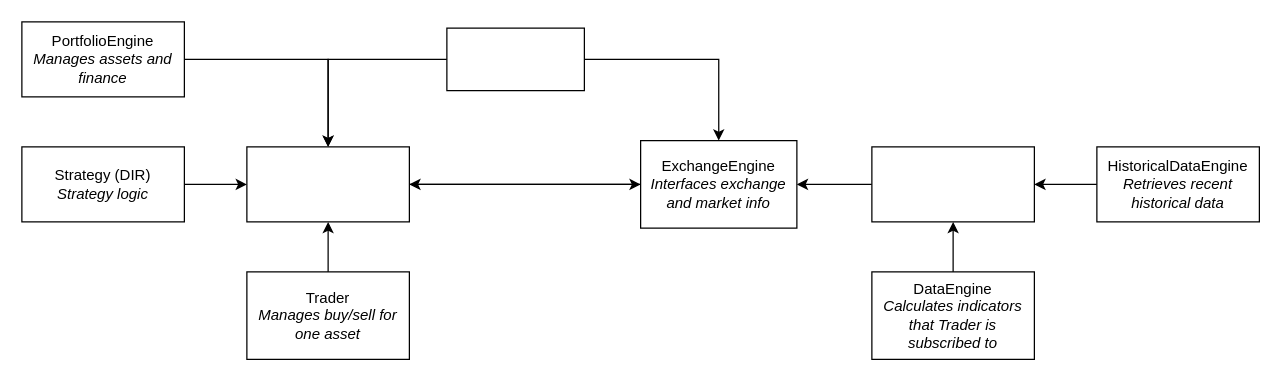
The diagram is 1281 pixels wide and 381 high, and some of its shapes have lost their labels. Here are the shapes that lost their labels. From the top down, the centre of each, then its label:
point 515,59: Master Manages Tick Cycle
point 327,184: TradeEngine Handles buy/sell logic
point 952,184: MarketEngine Retrieves live quotes for subscribed assets
